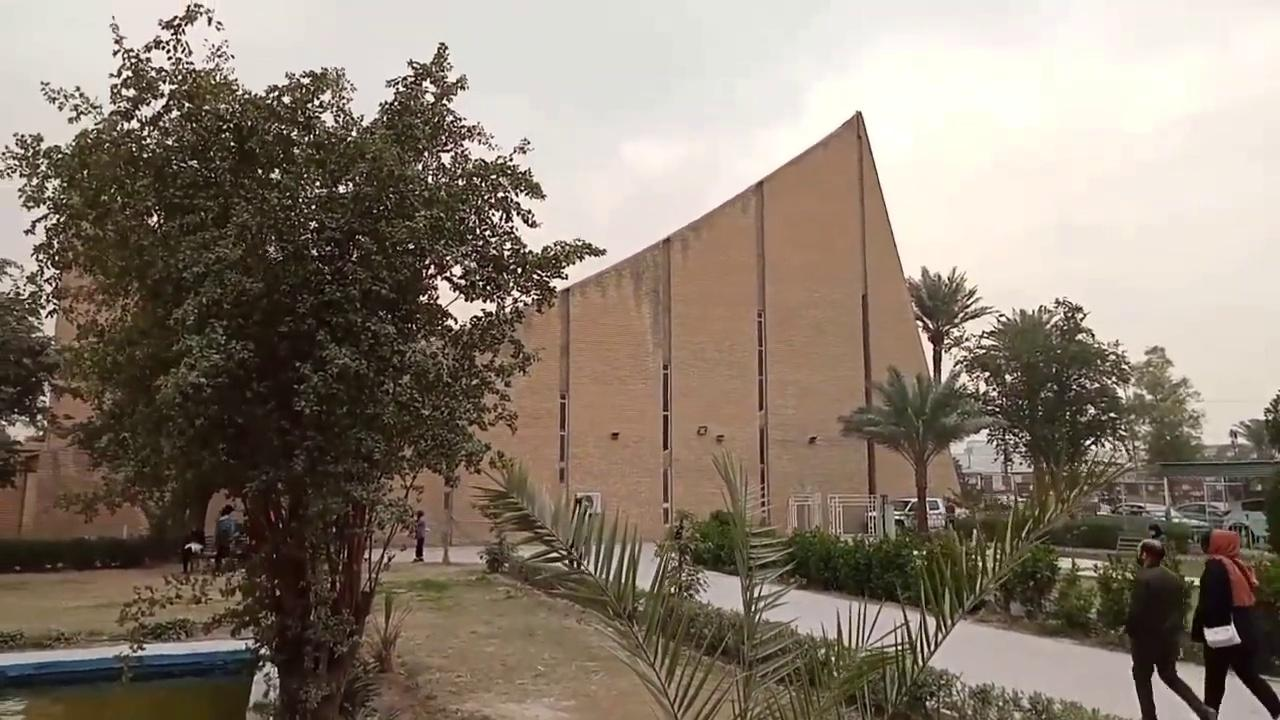car: (864, 496, 956, 534)
fountain: (0, 634, 261, 718)
person: (1123, 538, 1218, 719), (1191, 528, 1279, 719), (212, 504, 236, 577), (1136, 523, 1167, 567), (181, 526, 205, 573), (437, 507, 456, 564), (410, 509, 429, 562)
tree: (0, 0, 606, 715), (469, 277, 1154, 718), (957, 295, 1137, 528), (837, 363, 988, 534), (0, 257, 61, 490), (903, 264, 992, 386), (1124, 343, 1205, 467), (1262, 388, 1279, 456)
